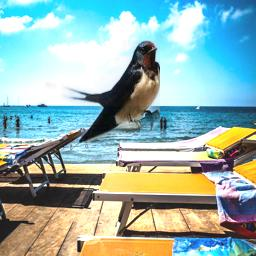Swallow: (35, 40, 160, 143)
